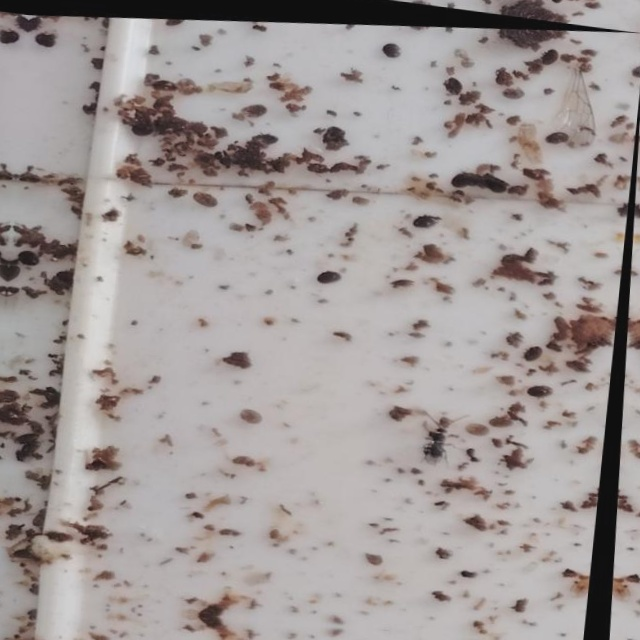varroa: (406, 208, 445, 231), (197, 596, 231, 617), (315, 264, 346, 286), (250, 125, 283, 145), (127, 115, 157, 136), (238, 98, 269, 118), (15, 241, 44, 262), (450, 167, 476, 190), (525, 381, 556, 399), (523, 343, 547, 366), (151, 72, 180, 91), (537, 45, 560, 68), (442, 73, 465, 96), (543, 129, 570, 148), (33, 25, 58, 43), (379, 39, 403, 56), (8, 257, 26, 279), (28, 8, 45, 29), (161, 13, 189, 25), (614, 200, 628, 220)
